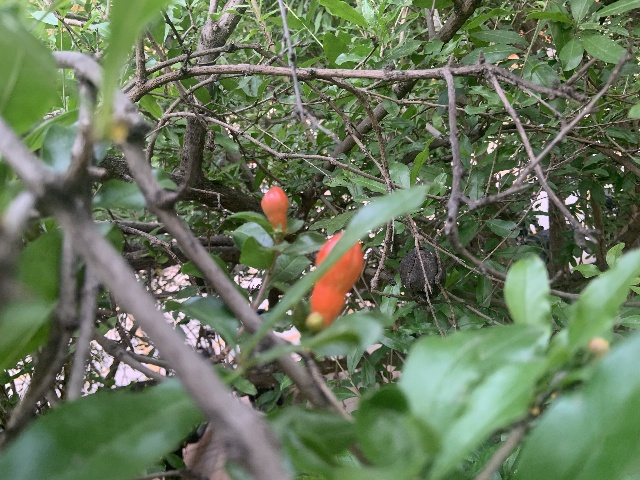bud: (309, 231, 364, 327), (260, 186, 288, 231)
